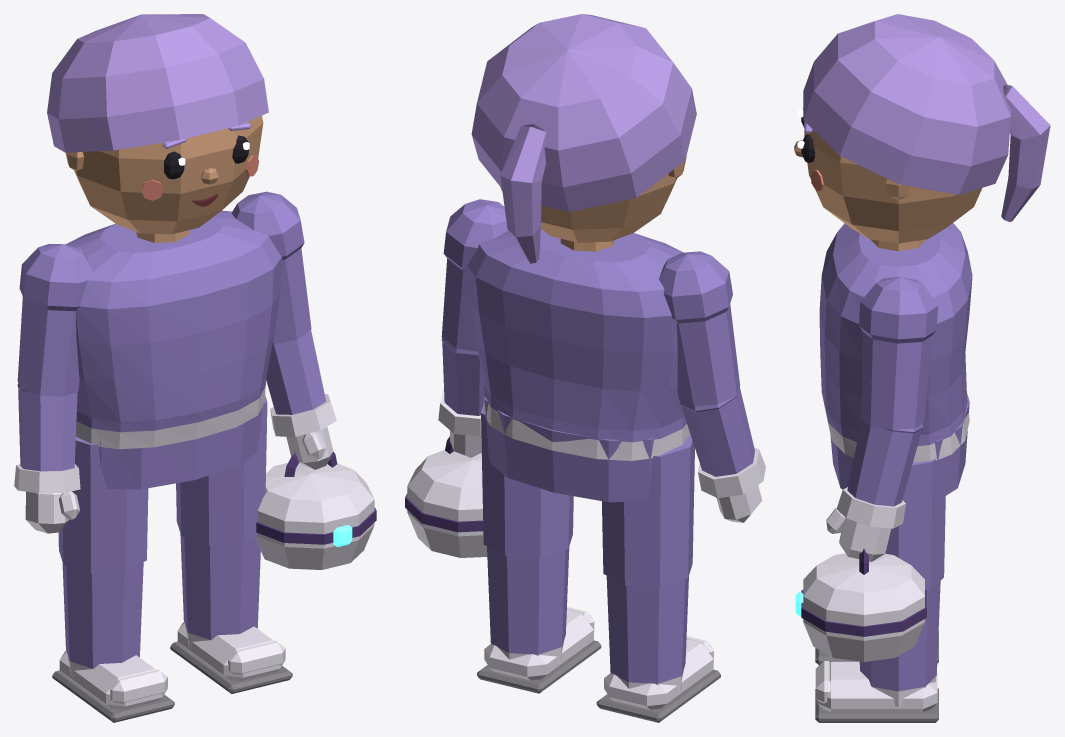
The model's file is aby-n2.glb.
The picture shows the model from 3 angles, left to right: view 1: azimuth 30°, elevation 25°; view 2: azimuth 150°, elevation 25°; view 3: azimuth 270°, elevation 25°; orthographic projection.
Visible parts, largest first — view 1: torso, haare, bein_r, arm_r, bein_l, kopf, gegenstand_pearlbox, arm_l, becken, schuh_l, schuh_r, gesicht (+2 smaller); view 2: torso, haare, bein_r, arm_r, bein_l, arm_l, becken, gegenstand_pearlbox, schuh_l, schuh_r, kopf, hand_r (+1 smaller); view 3: haare, torso, arm_l, gegenstand_pearlbox, kopf, bein_l, schuh_l, becken, hand_l, gesicht.
Boxes of the visible parts, x1=… form: torso: x1=66, y1=210, x2=282, y2=449; haare: x1=47, y1=14, x2=268, y2=152; bein_r: x1=58, y1=437, x2=148, y2=668; arm_r: x1=14, y1=243, x2=92, y2=493; bein_l: x1=176, y1=394, x2=267, y2=639; kopf: x1=65, y1=115, x2=263, y2=234; gegenstand_pearlbox: x1=256, y1=452, x2=376, y2=569; arm_l: x1=231, y1=191, x2=336, y2=436; becken: x1=99, y1=408, x2=262, y2=489; schuh_l: x1=170, y1=622, x2=292, y2=693; schuh_r: x1=52, y1=650, x2=174, y2=722; gesicht: x1=141, y1=122, x2=258, y2=206; torso: x1=466, y1=229, x2=690, y2=460; haare: x1=471, y1=14, x2=696, y2=263; bein_r: x1=602, y1=434, x2=694, y2=683; arm_r: x1=659, y1=251, x2=765, y2=498; bein_l: x1=481, y1=404, x2=573, y2=654; arm_l: x1=438, y1=199, x2=507, y2=436; becken: x1=484, y1=397, x2=654, y2=502; gegenstand_pearlbox: x1=405, y1=436, x2=487, y2=557; schuh_l: x1=477, y1=607, x2=601, y2=693; schuh_r: x1=596, y1=636, x2=720, y2=722; kopf: x1=500, y1=156, x2=686, y2=242; hand_r: x1=716, y1=485, x2=762, y2=522; haare: x1=803, y1=14, x2=1050, y2=221; torso: x1=819, y1=223, x2=972, y2=462; arm_l: x1=836, y1=276, x2=937, y2=528; gegenstand_pearlbox: x1=795, y1=548, x2=926, y2=661; kopf: x1=804, y1=130, x2=982, y2=243; bein_l: x1=859, y1=459, x2=945, y2=691; schuh_l: x1=815, y1=661, x2=938, y2=722; becken: x1=830, y1=393, x2=969, y2=501; hand_l: x1=826, y1=508, x2=891, y2=561; gesicht: x1=794, y1=108, x2=823, y2=190.
Bounding box in the file's own units: 0.0137 × 0.0244 × 0.00873.
